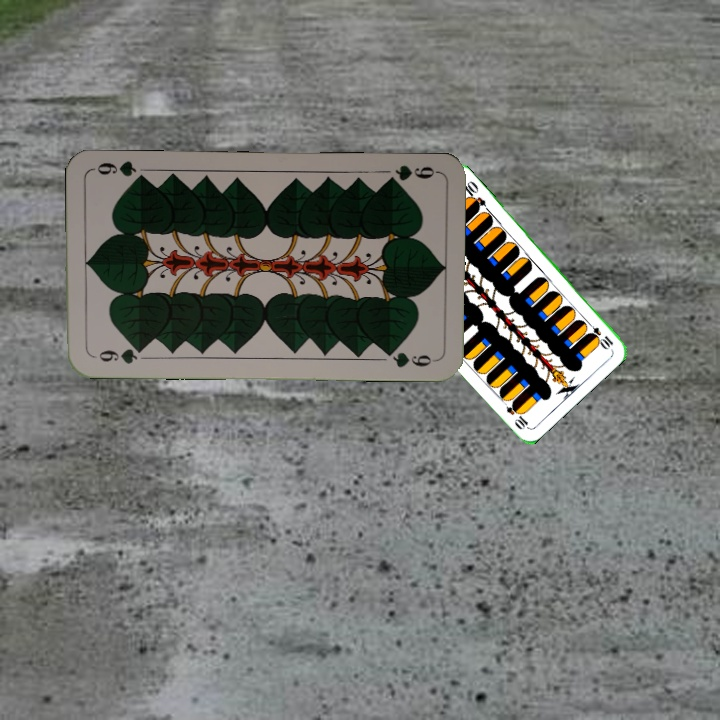E10: (582, 317, 616, 351)
G9: (380, 161, 439, 187), (95, 343, 148, 366)
